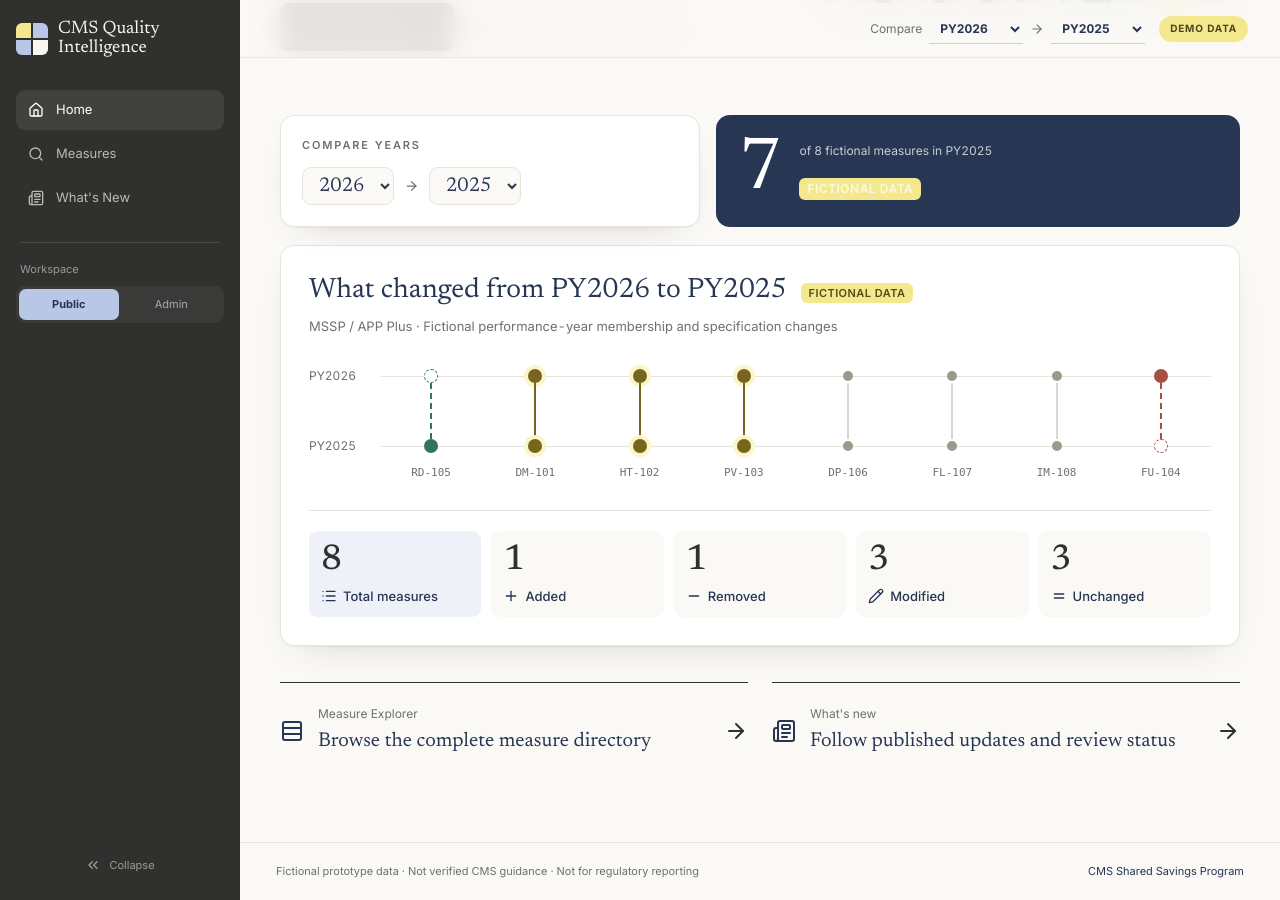
Checkpoint B navigation routes › opens Measure Explorer from a dashboard metric with comparison state intact
(page scrolled)
Step 1. Click the button with aria-label "View modified measures in Measure Explorer" → (942, 574), box [856,530,1029,617]
(page scrolled)
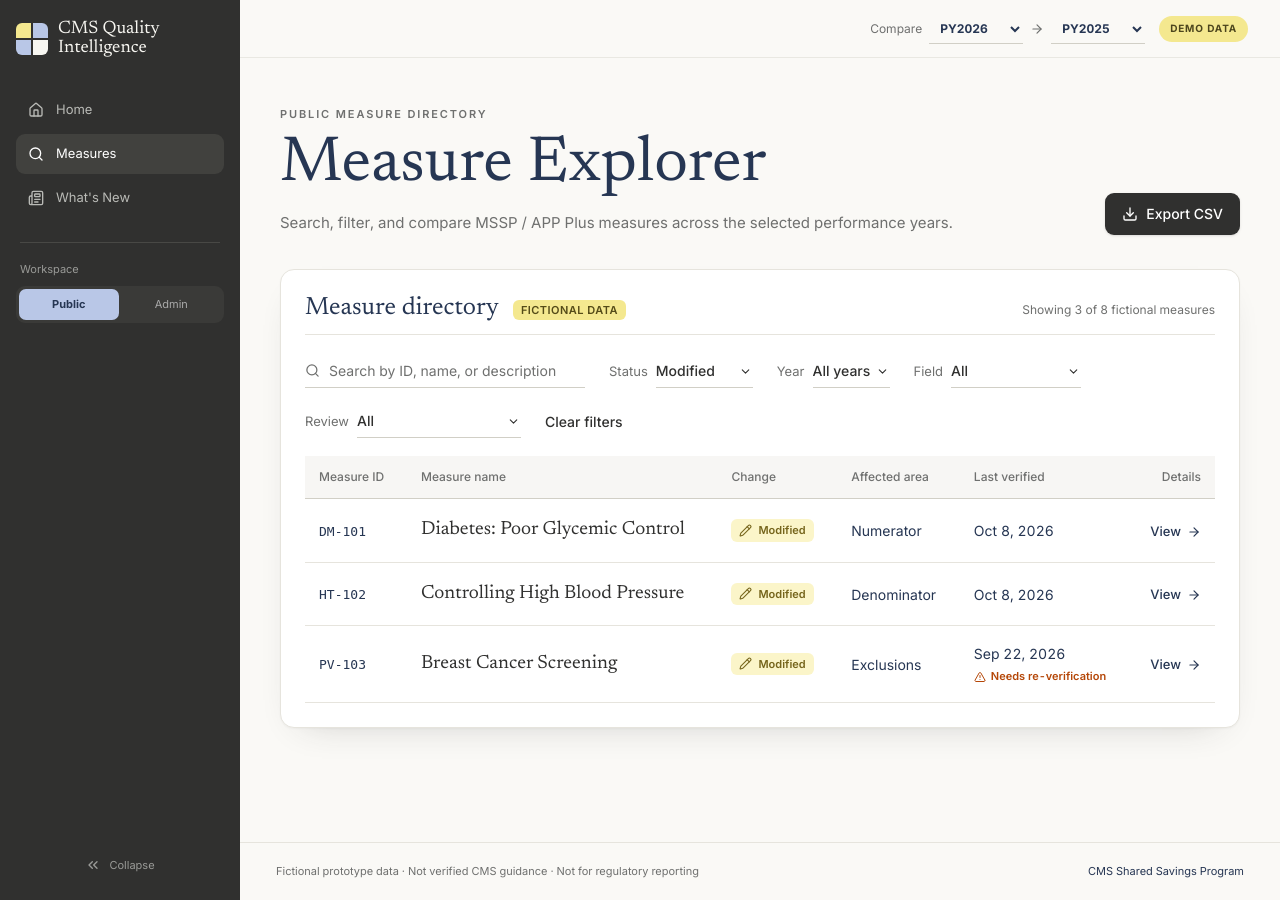
Expected: the text "Showing 3 of 8 fictional measures" is shown, [1022,301,1215,319]
